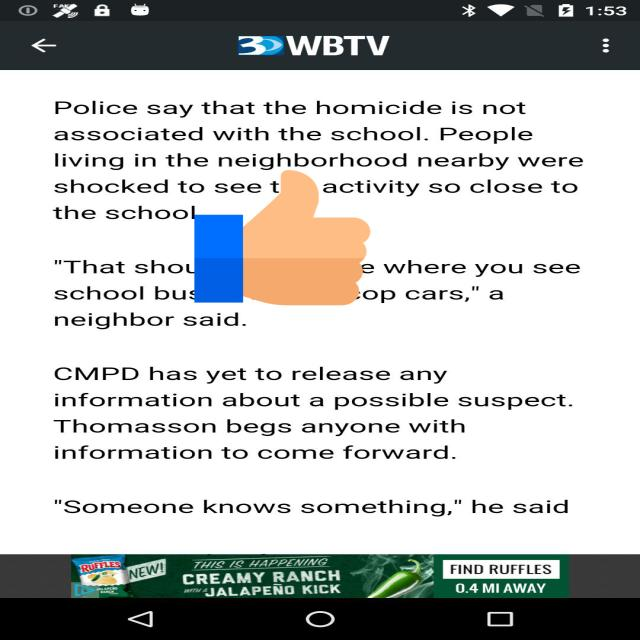privacy zuckering: (194, 166, 370, 308)
